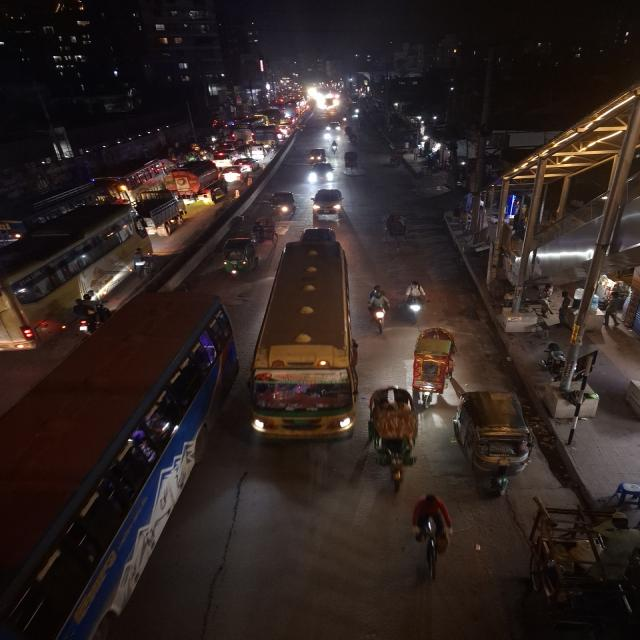bus: (4, 291, 235, 637), (250, 238, 362, 447), (2, 204, 148, 356)
car: (1, 155, 171, 241), (166, 159, 221, 194), (310, 186, 346, 218), (306, 161, 338, 187), (223, 160, 258, 182), (233, 157, 259, 173), (306, 146, 328, 164)
cng: (454, 387, 539, 495), (219, 235, 258, 280), (268, 189, 296, 221), (222, 166, 246, 184)
motorcycle: (68, 288, 108, 336), (400, 279, 432, 325), (365, 282, 391, 333), (328, 140, 339, 156)
rickshaw: (409, 325, 460, 407), (409, 491, 454, 581), (381, 211, 413, 252), (251, 214, 276, 246), (340, 149, 365, 179)
truck: (135, 194, 188, 238), (250, 126, 281, 146)
